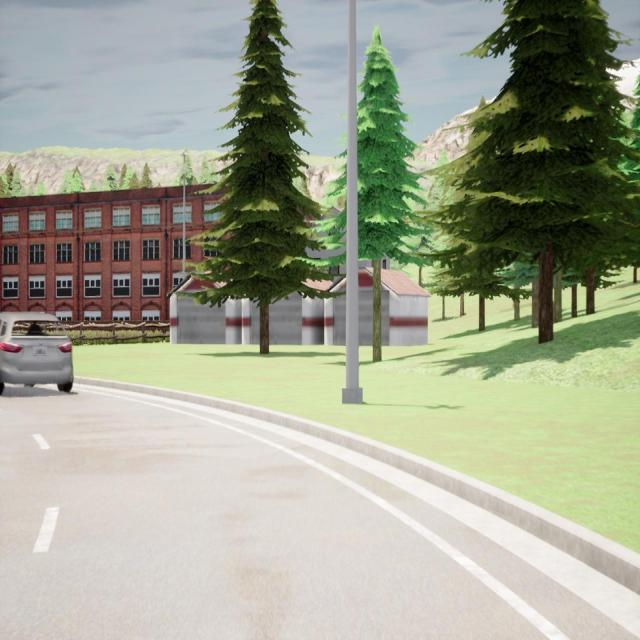Vehicle: (0, 311, 73, 394)
